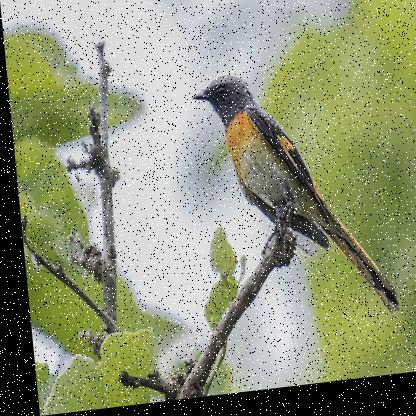Burung: (188, 65, 391, 339)
